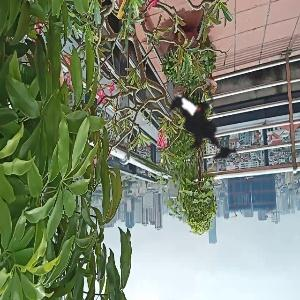drone: (144, 58, 277, 191)
